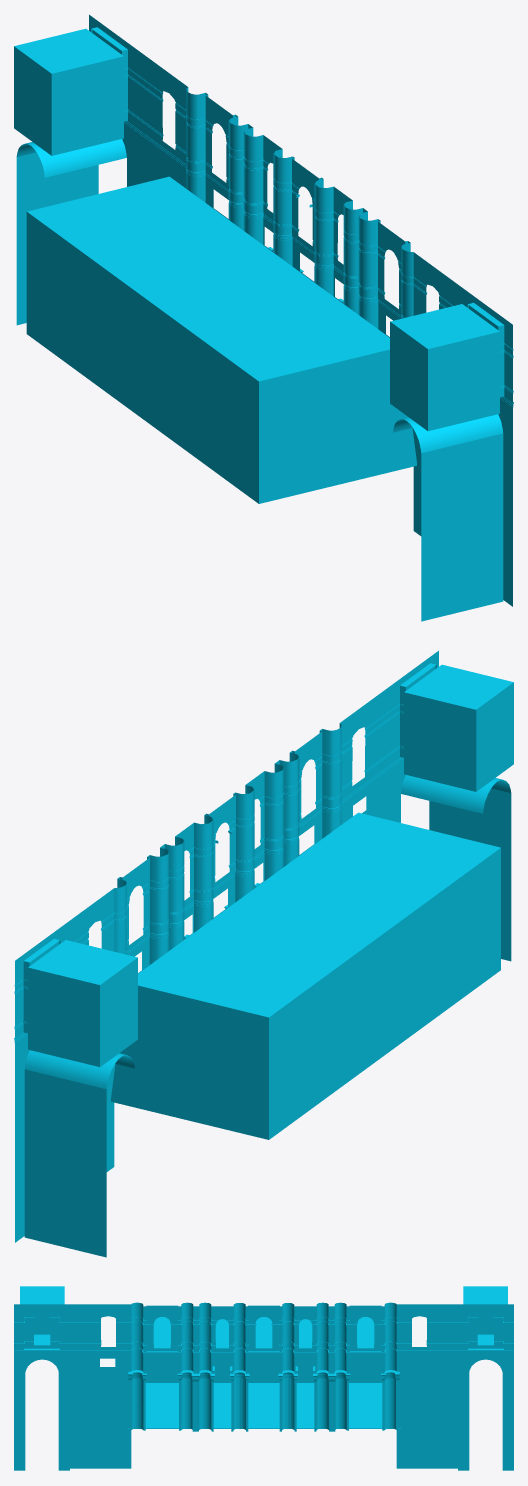
The model's file is Wall01.FBX.
3 views of the same model, one above another, from view 1: azimuth 30°, elevation 25°; view 2: azimuth 150°, elevation 25°; view 3: azimuth 270°, elevation 25° (orthographic). The views are drawn at different scales.
Visible parts, largest first — view 1: wallls; view 2: wallls; view 3: wallls.
Part boxes in pixels (x1=…): wallls: x1=14, y1=14, x2=513, y2=621; wallls: x1=14, y1=650, x2=513, y2=1257; wallls: x1=14, y1=1286, x2=513, y2=1470.
Bounding box in the file's own units: 2384 × 3738 × 10116.
